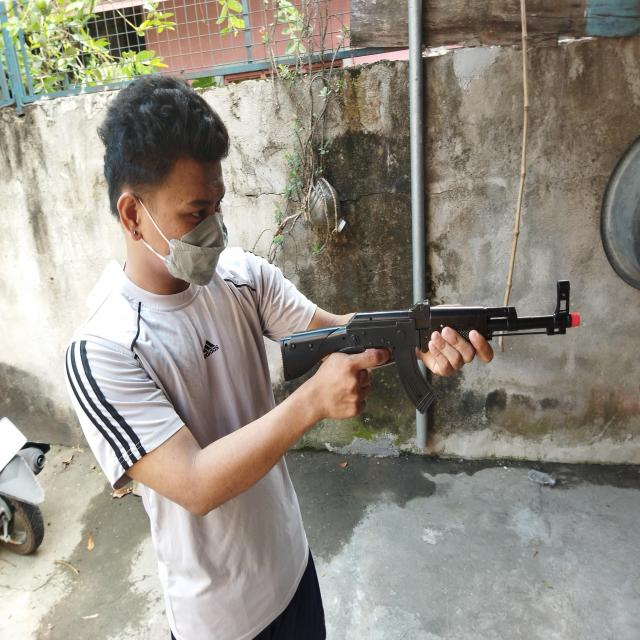rifle: (280, 280, 580, 416)
